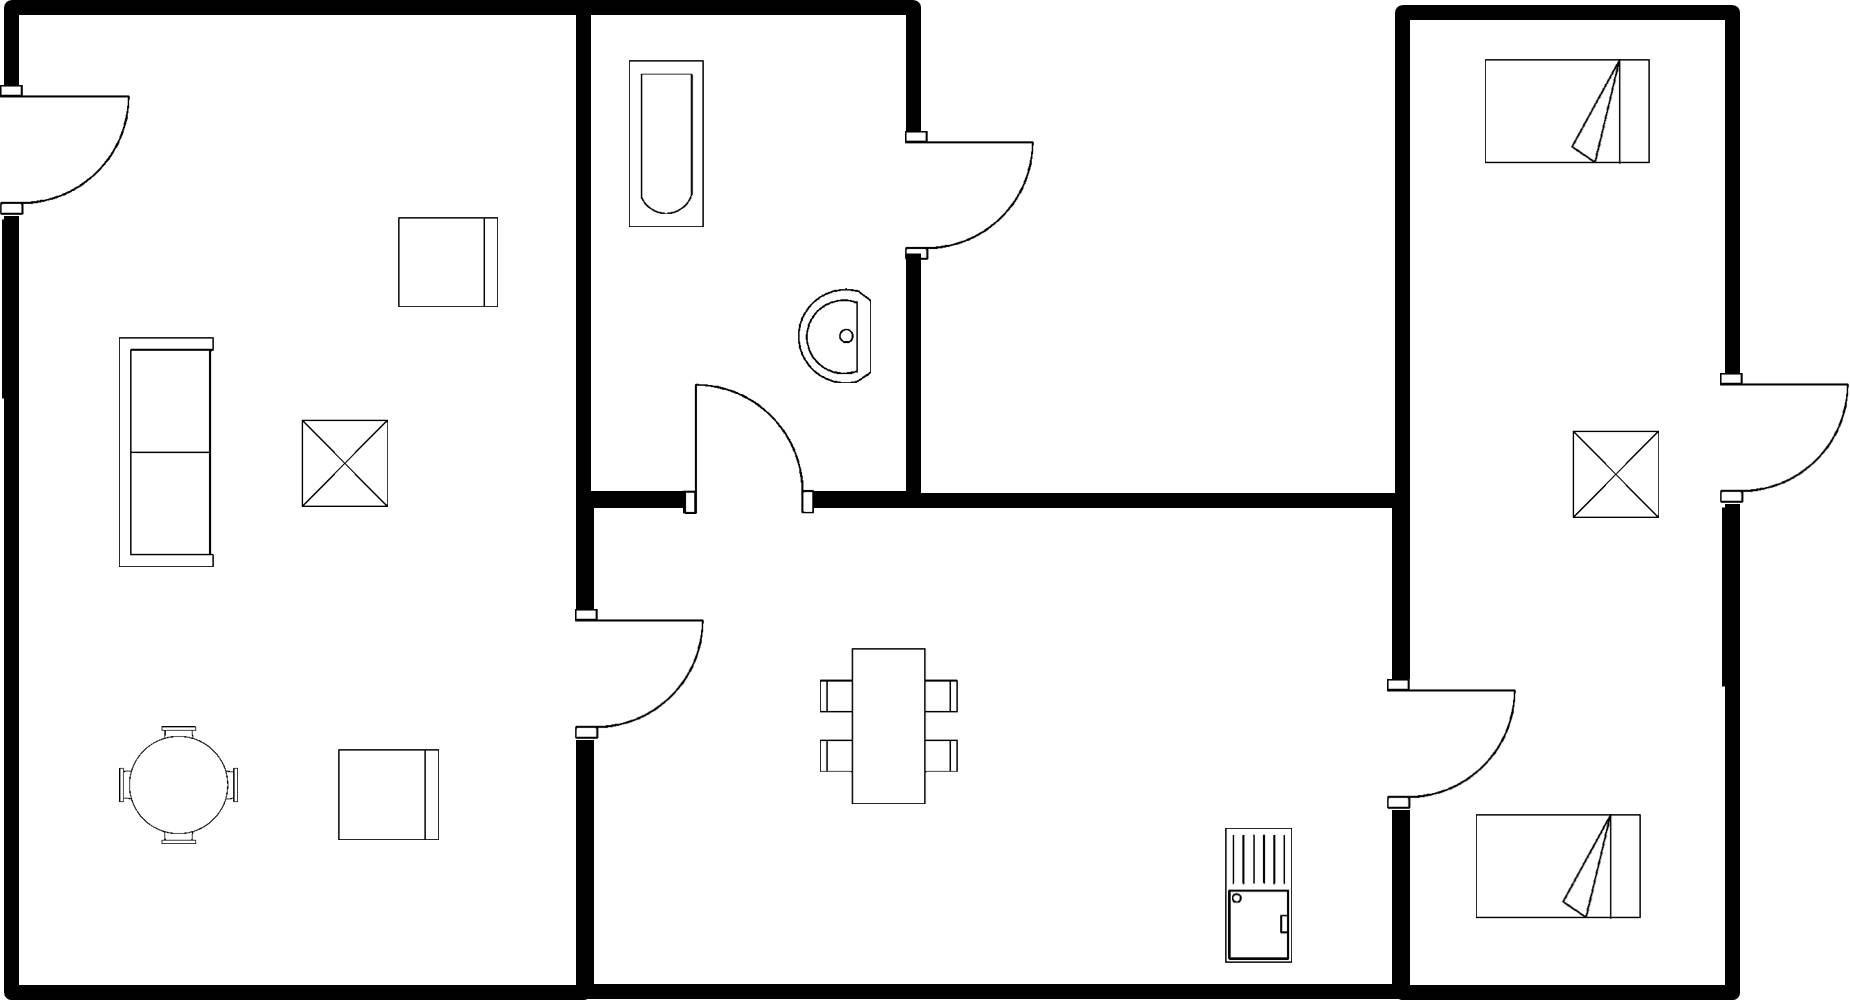bed: (1470, 47, 1661, 175), (1465, 804, 1653, 932)
coffee_table: (1561, 422, 1671, 529), (290, 412, 399, 518)
dining_table: (809, 638, 963, 813)
large_sofa: (111, 326, 220, 575)
round_table: (107, 716, 248, 851)
sink: (1212, 818, 1306, 972)
small_sink: (790, 279, 879, 391)
small_sofa: (328, 737, 448, 851), (390, 210, 506, 313)
tub: (616, 49, 712, 241)
